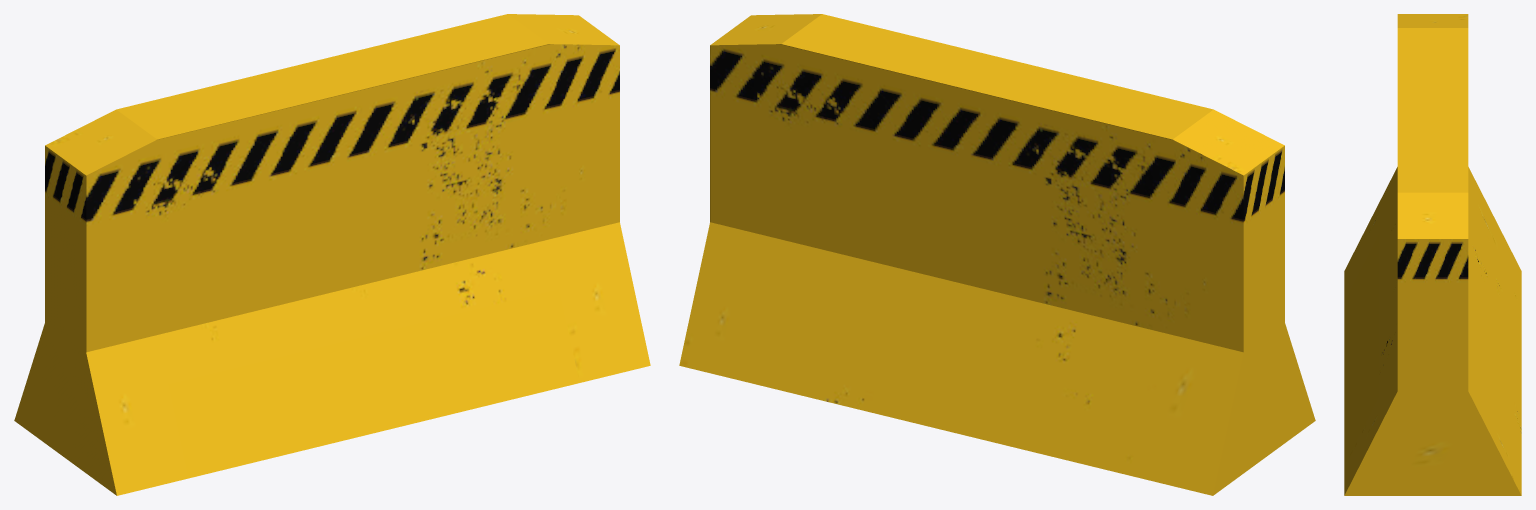
The model's file is road_block.glb.
3 renders of one model, left to right at view 1: azimuth 30°, elevation 25°; view 2: azimuth 150°, elevation 25°; view 3: azimuth 270°, elevation 25°, orthographic. The views are drawn at different scales.
Visible parts, largest first — view 1: cuboid; view 2: cuboid; view 3: cuboid.
Part boxes in pixels (box(x1,y1,x2,y2)): cuboid: box(14, 14, 650, 495); cuboid: box(679, 14, 1315, 495); cuboid: box(1344, 14, 1521, 495).
Bounding box in the file's own units: 1.87 × 1.06 × 0.625.
1 material, 1 textured.
